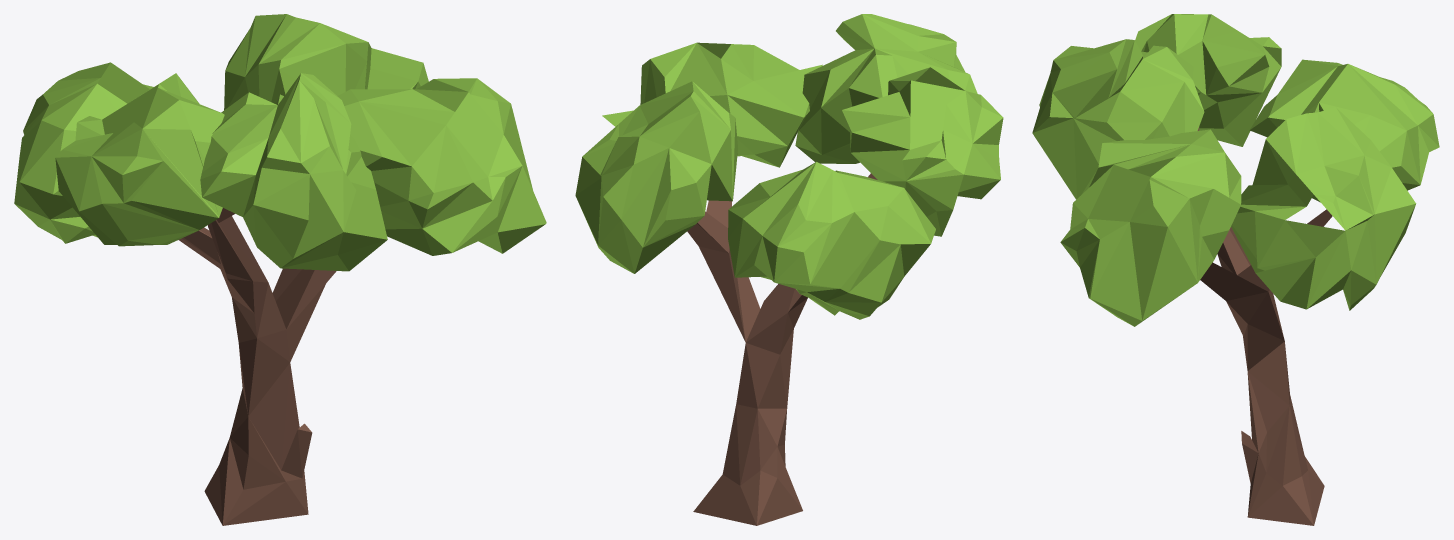
Rendered from tree.glb.
3 renders of one model, left to right at view 1: azimuth 30°, elevation 25°; view 2: azimuth 150°, elevation 25°; view 3: azimuth 270°, elevation 25°, orthographic. The views are drawn at different scales.
Visible parts, largest first — view 1: Node; view 2: Node; view 3: Node.
Boxes of the visible parts, bbox=[...] form: Node: bbox=[14, 14, 546, 525]; Node: bbox=[575, 14, 1003, 525]; Node: bbox=[1032, 14, 1439, 525].
Size of the model in its own units: 2.19 by 2.46 by 2.03.
